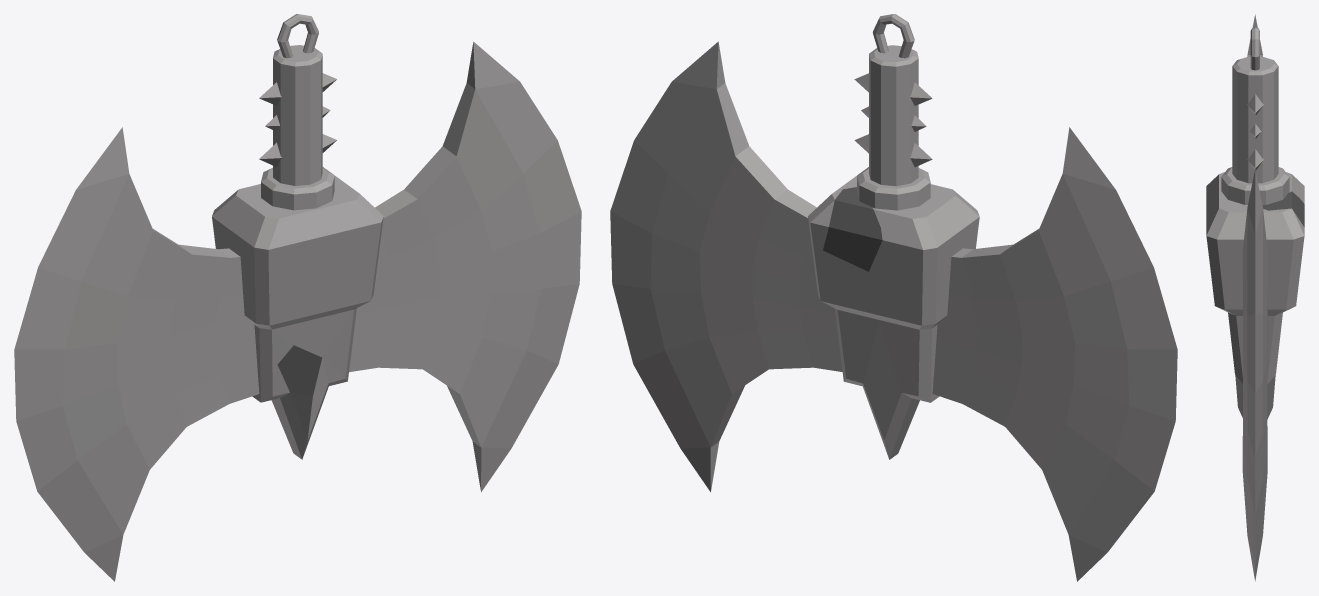
Rendered from MetalPendulumTrap_6.fbx.
3 views of the same model, side by side, from view 1: azimuth 30°, elevation 25°; view 2: azimuth 150°, elevation 25°; view 3: azimuth 270°, elevation 25° (orthographic). The views are drawn at different scales.
Visible parts, largest first — view 1: MetalPendulumTrap_6; view 2: MetalPendulumTrap_6; view 3: MetalPendulumTrap_6.
Part boxes in pixels (x1,y1,x2,y2): MetalPendulumTrap_6: (14, 14, 581, 581); MetalPendulumTrap_6: (610, 14, 1177, 581); MetalPendulumTrap_6: (1206, 14, 1304, 581).
Bounding box in the file's own units: 125 × 110 × 20.63.
